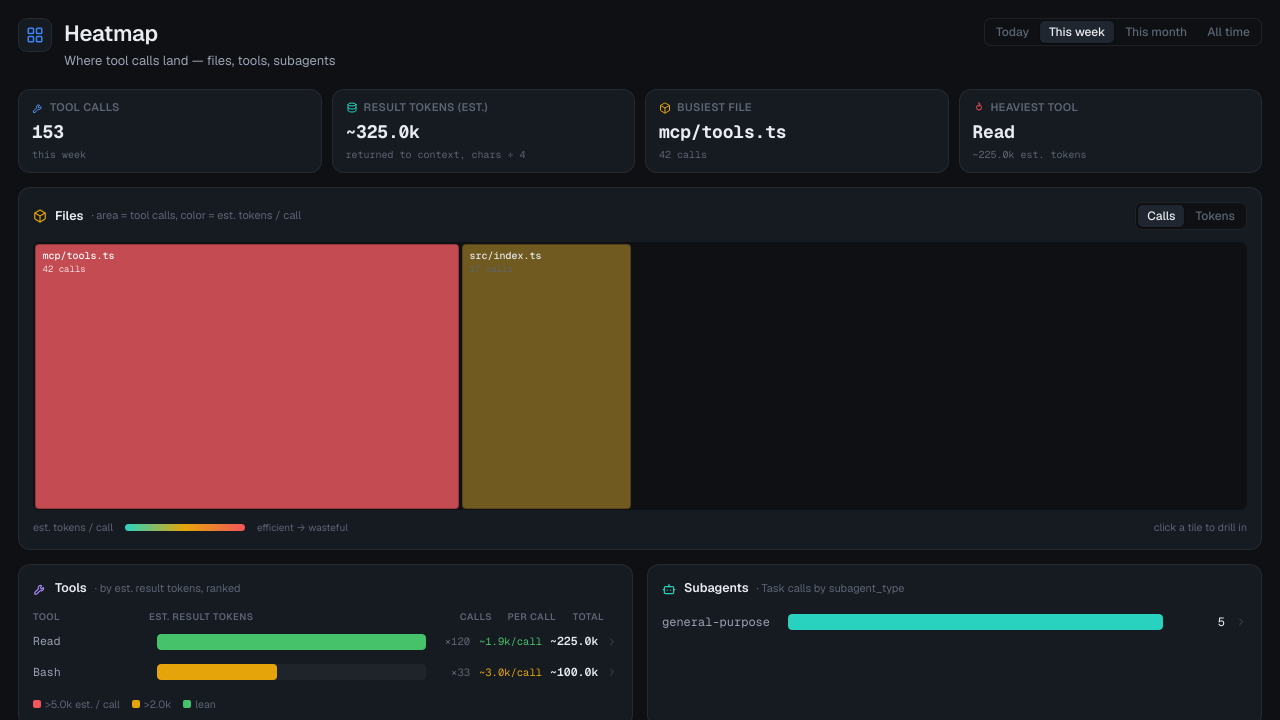
Test: HeatmapPage (REQ-DESKTOP-024) › drills into a tool via /api/claude/heatmap/tool
This screenshot has width=1280, height=720.
Click the text "×120".
click(457, 641)  # box [445,634,470,648]
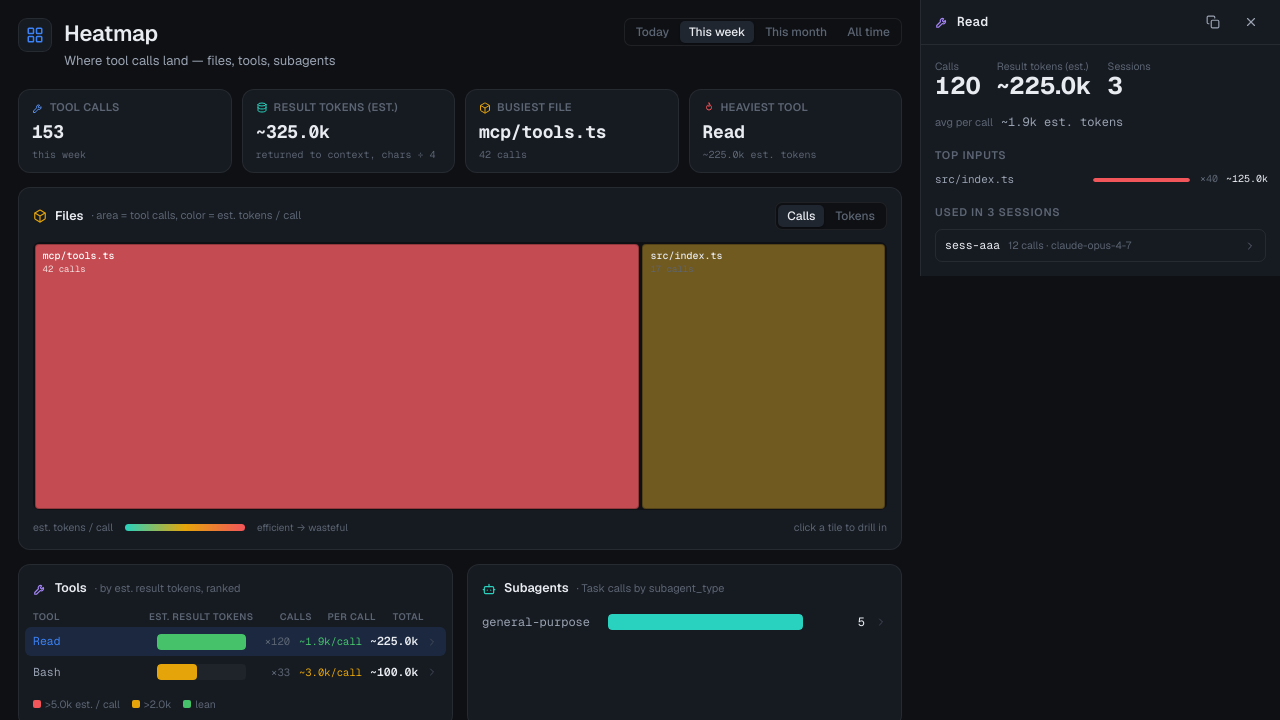
expect the text "Top inputs" is shown: met, box [935,148,1006,162]
expect the text "avg per call" is shown: met, box [935,115,993,131]
expect the text "×40" is shown: met, box [1198,172,1218,187]
Note: Close the rail.
Click the button named "Close drill-down".
click(1251, 22)  # box [1236,12,1266,32]
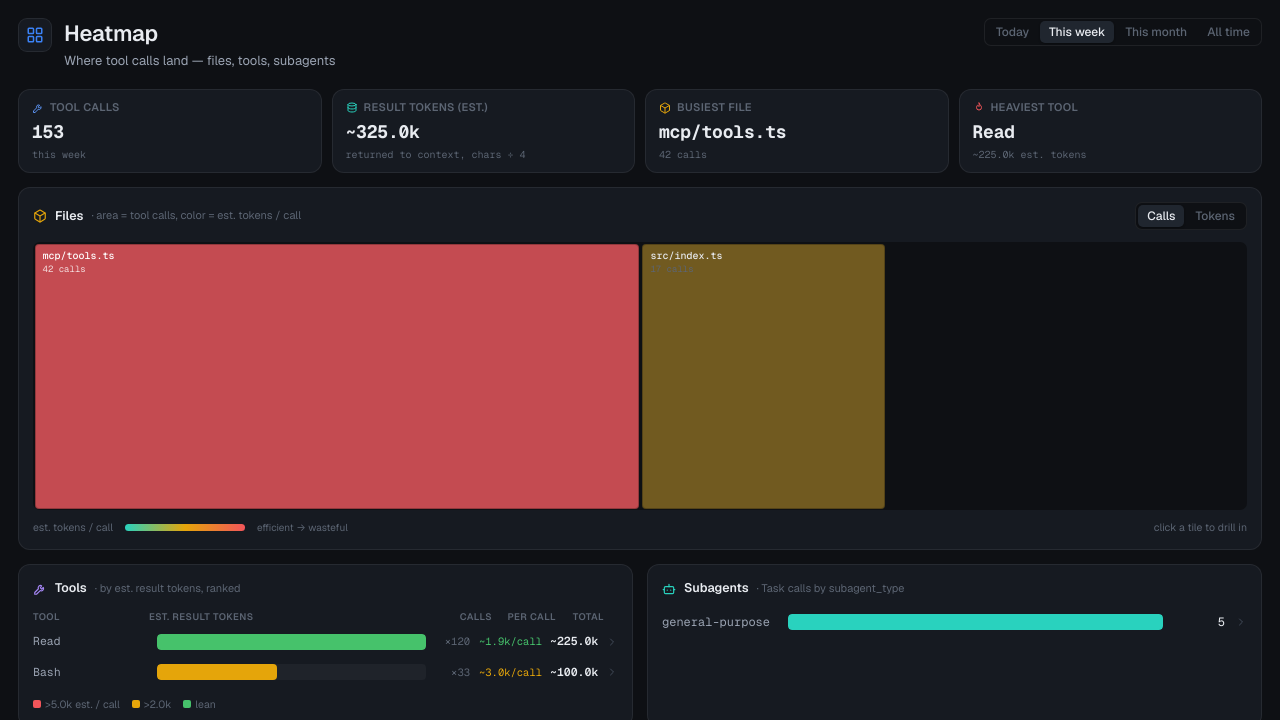
expect the text "Top inputs" is gone: met
